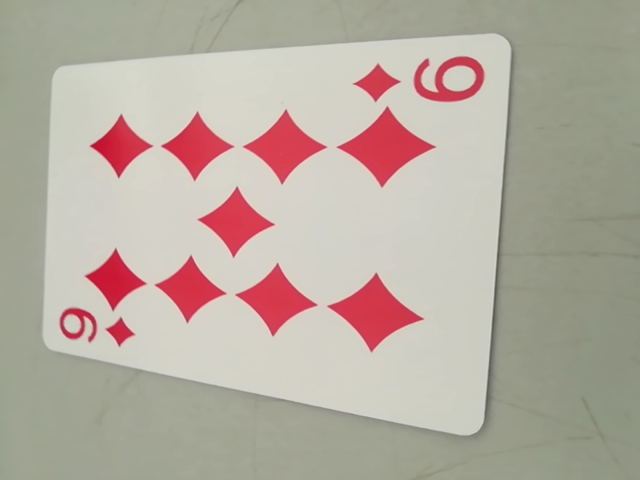fk 9: (356, 49, 490, 116), (49, 302, 142, 356)
